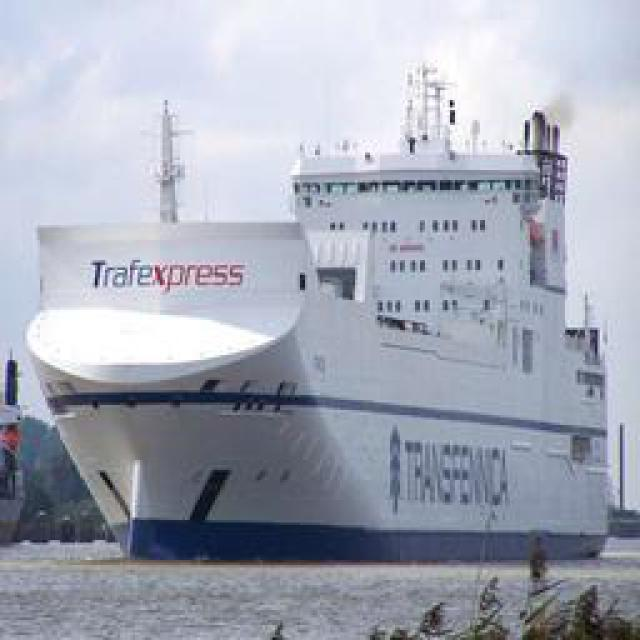Ship: (27, 56, 620, 559)
